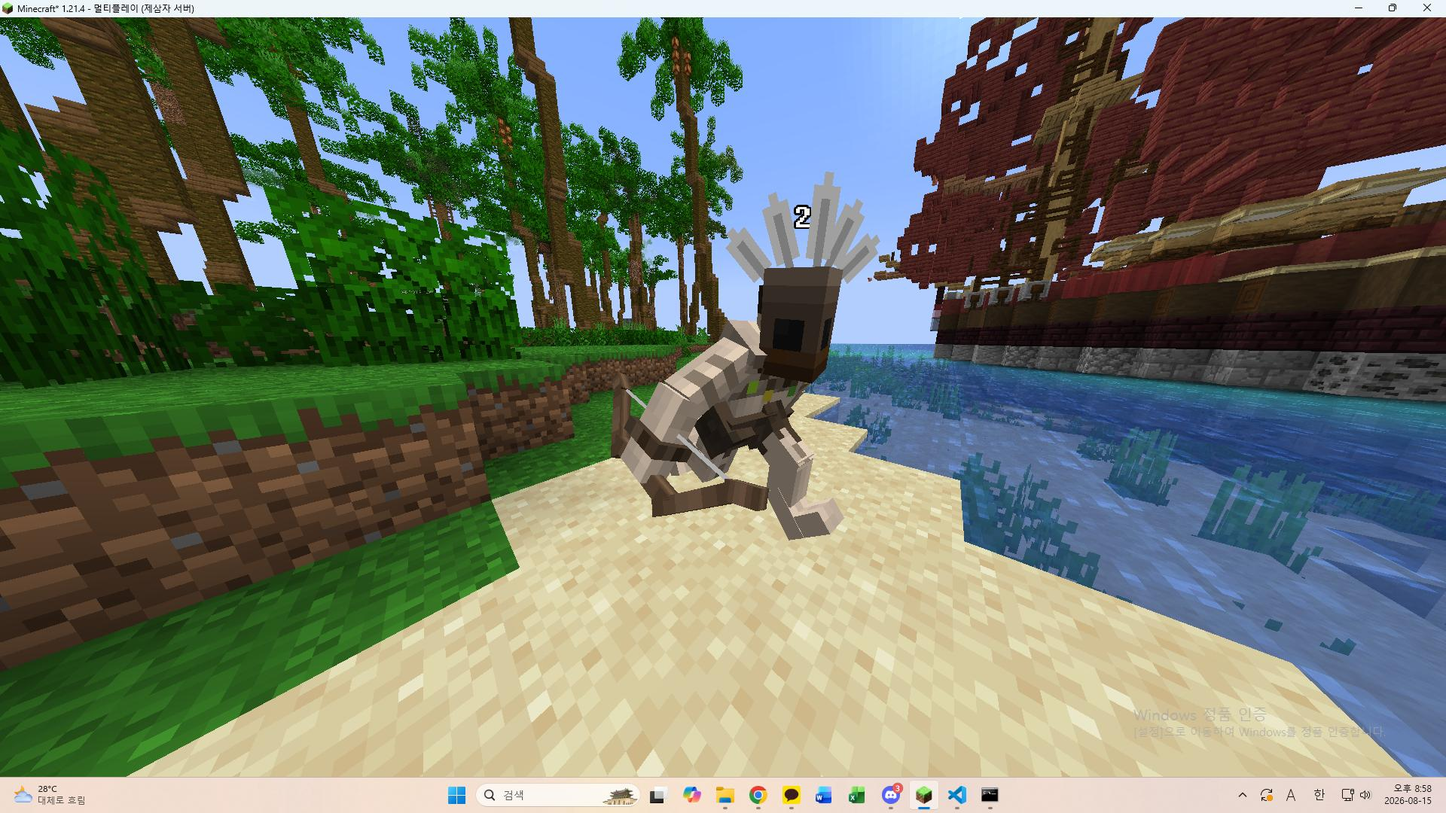bow_indian: (580, 171, 947, 579)
